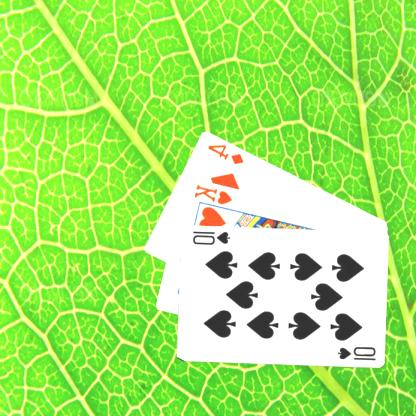10S: (336, 344, 379, 362), (191, 228, 233, 246)
4D: (206, 142, 247, 166)
KH: (193, 181, 235, 206)
